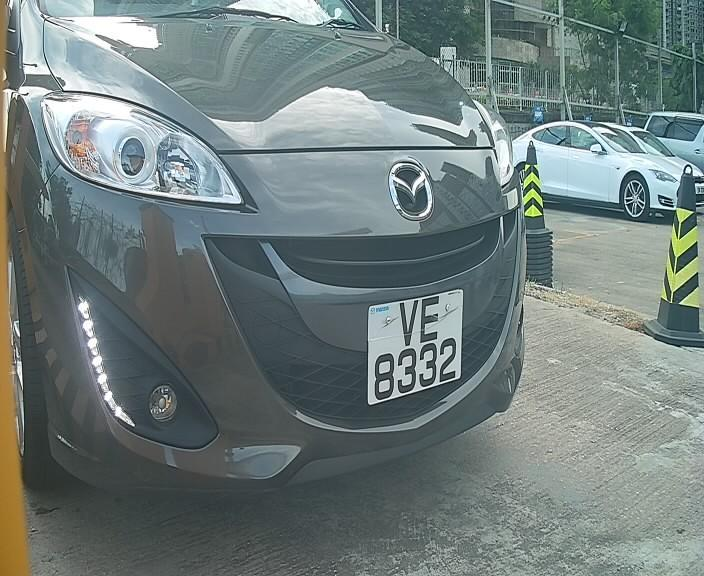privatecar: (16, 24, 538, 489)
